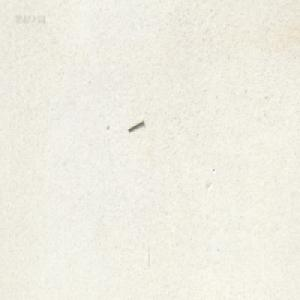Bolt: (127, 119, 143, 132)
